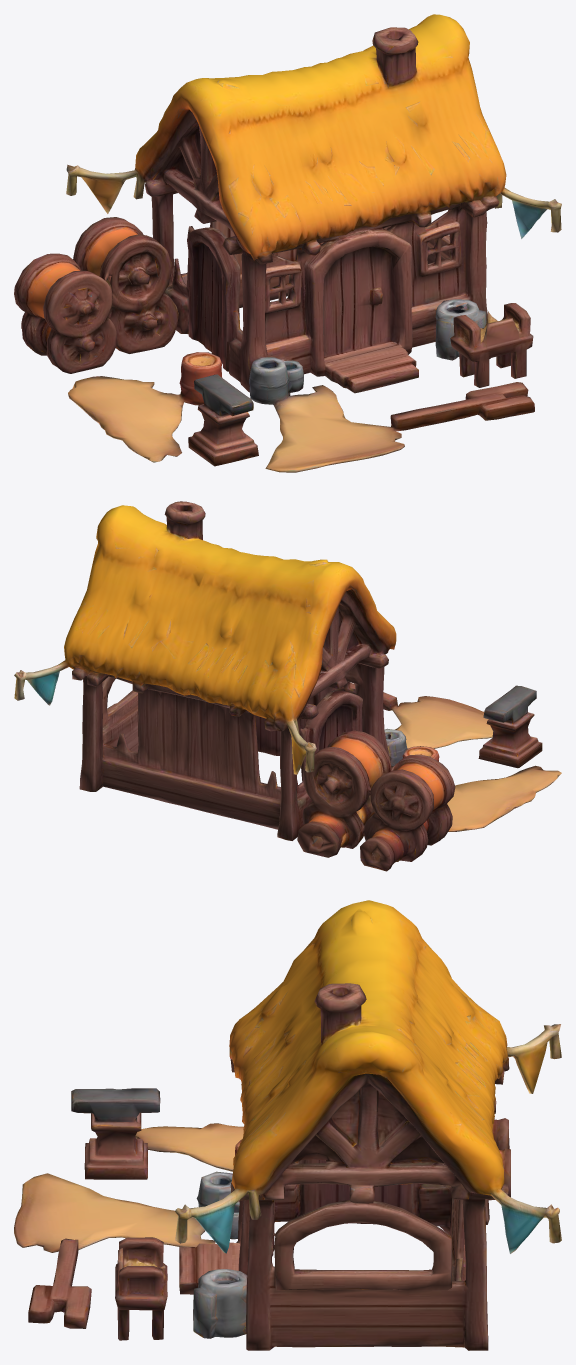
The model's file is upgrade.glb.
3 renders of one model, top to bottom at view 1: azimuth 30°, elevation 25°; view 2: azimuth 150°, elevation 25°; view 3: azimuth 270°, elevation 25°, orthographic. The views are drawn at different scales.
Visible parts, largest first — view 1: Mesh_0; view 2: Mesh_0; view 3: Mesh_0.
Boxes of the visible parts, <box> form: Mesh_0: <box>14,14,561,472</box>; Mesh_0: <box>14,501,561,871</box>; Mesh_0: <box>14,900,561,1350</box>.
Bounding box in the file's own units: 1.87 × 1.15 × 1.74.
Materials: 1 (1 with a texture image).
